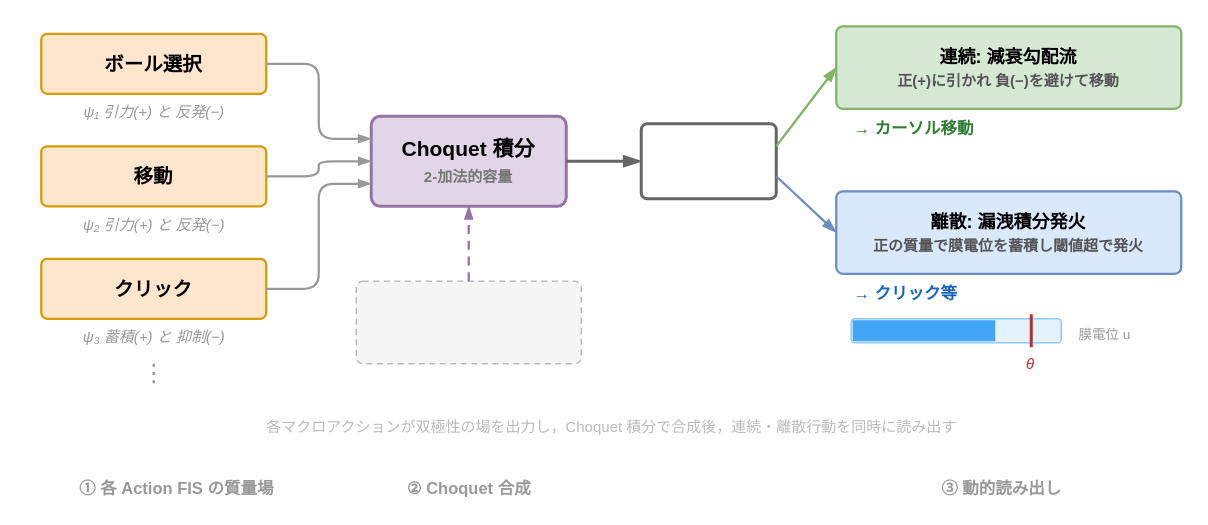
The diagram is 1208 pixels wide and 525 high, and some of its shapes have lost their labels. The centre of each missing label's shape, as x and y in pixels:
Decision FCM 各マクロアクションの 重要度 → 容量の重み: (x=468, y=322)
合成場 Ψ: (x=708, y=161)
